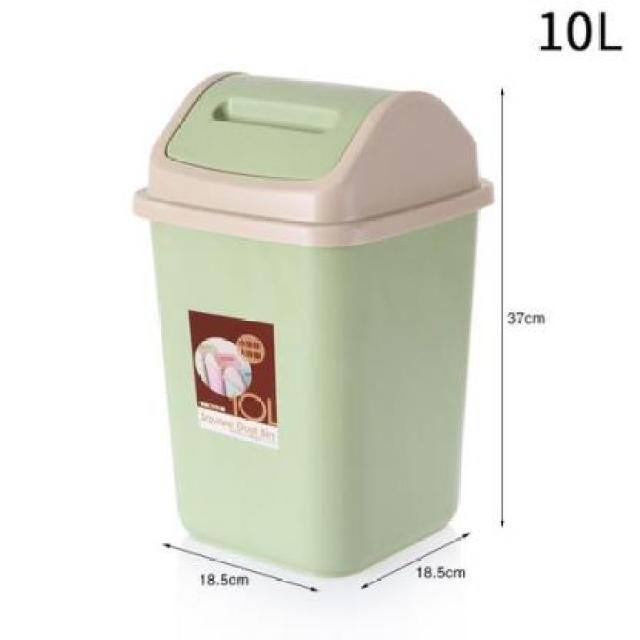dustbin: (127, 64, 506, 586)
